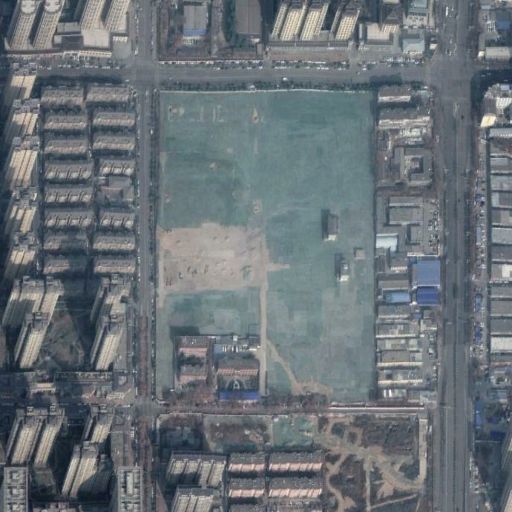cw: (156, 88, 375, 403), (155, 410, 426, 512)
